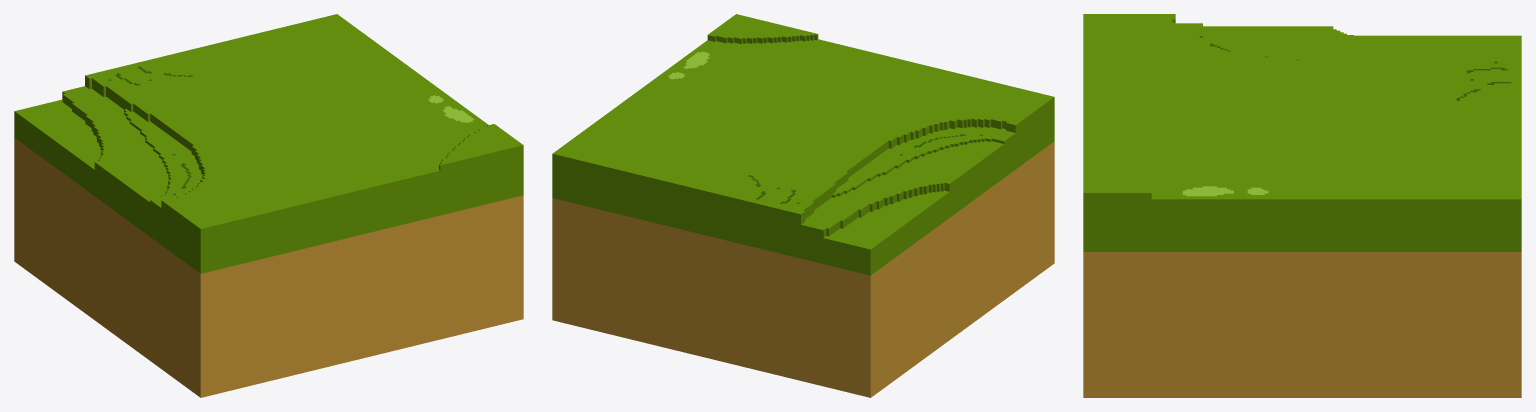
3 renders of one model, left to right at view 1: azimuth 30°, elevation 25°; view 2: azimuth 150°, elevation 25°; view 3: azimuth 270°, elevation 25°, orthographic. The views are drawn at different scales.
Visible parts, largest first — view 1: 15F; view 2: 15F; view 3: 15F.
Boxes of the visible parts, x1,y1,x2,y2 form: 15F: (14, 14, 523, 397); 15F: (552, 14, 1054, 397); 15F: (1083, 14, 1521, 397).
Size of the model in its own units: 12.8 by 6.6 by 12.8.
Materials: 1 (1 with a texture image).
